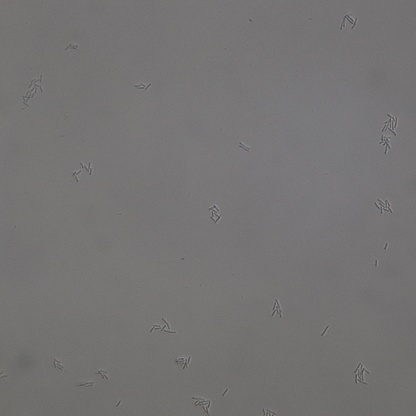R(colony): (21, 75, 43, 106), (70, 161, 93, 184), (149, 317, 177, 334), (191, 395, 213, 416), (382, 111, 401, 134), (353, 363, 369, 385), (207, 203, 221, 226), (340, 13, 358, 30), (374, 198, 392, 214), (175, 354, 191, 371), (378, 135, 393, 153), (270, 298, 282, 319), (95, 368, 110, 383), (134, 81, 152, 92), (52, 358, 64, 371)
